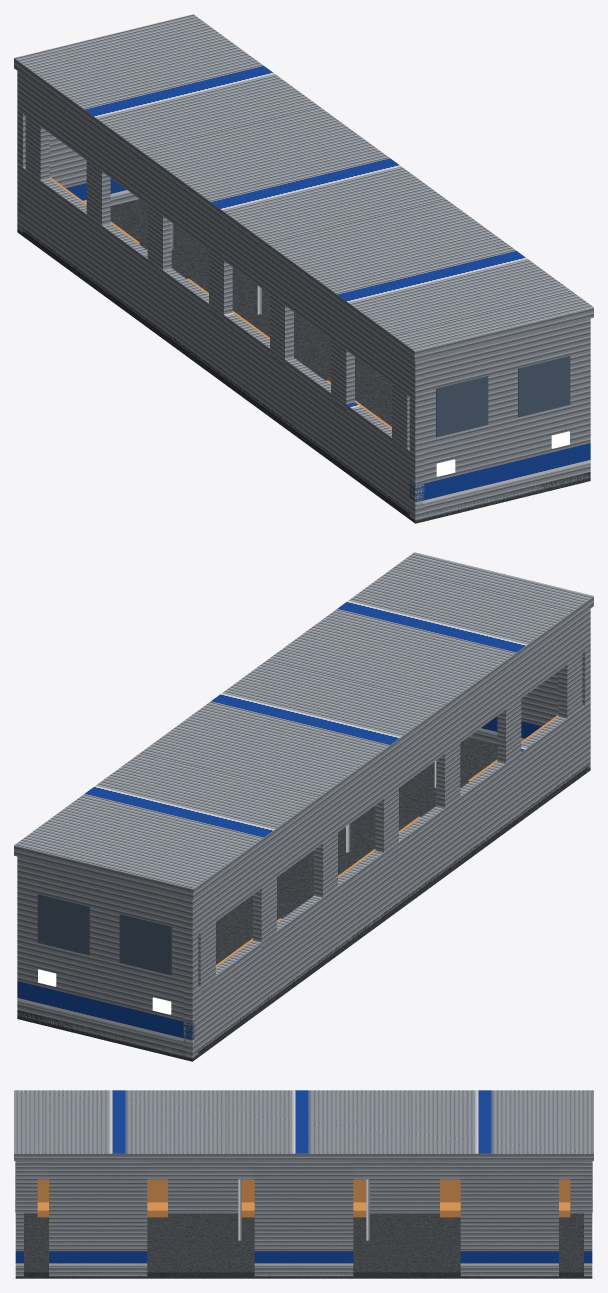
The model's file is nyc_subway_train.glb.
3 renders of one model, top to bottom at view 1: azimuth 30°, elevation 25°; view 2: azimuth 150°, elevation 25°; view 3: azimuth 270°, elevation 25°, orthographic. The views are drawn at different scales.
Visible parts, largest first — view 1: nyc_subway_train.glb; view 2: nyc_subway_train.glb; view 3: nyc_subway_train.glb.
Boxes of the visible parts, bbox=[...] form: nyc_subway_train.glb: bbox=[14, 14, 593, 523]; nyc_subway_train.glb: bbox=[14, 552, 593, 1061]; nyc_subway_train.glb: bbox=[14, 1090, 593, 1278].
Size of the model in its own units: 3.28 by 3.04 by 12.68.
Materials: 7 (2 with a texture image).
